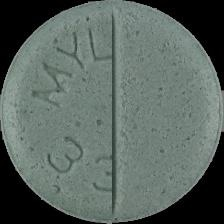51079-431: (0, 0, 224, 224)
